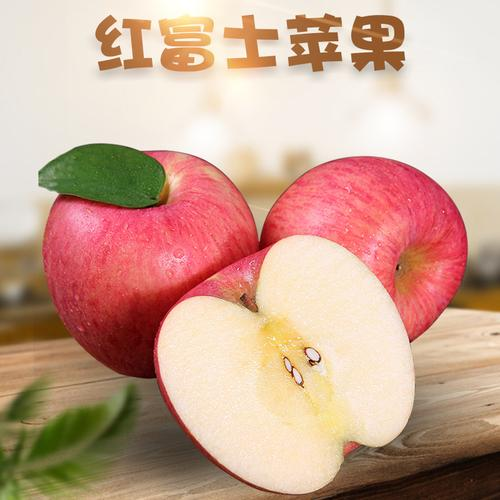ripe: (27, 135, 263, 383), (258, 145, 474, 351)
